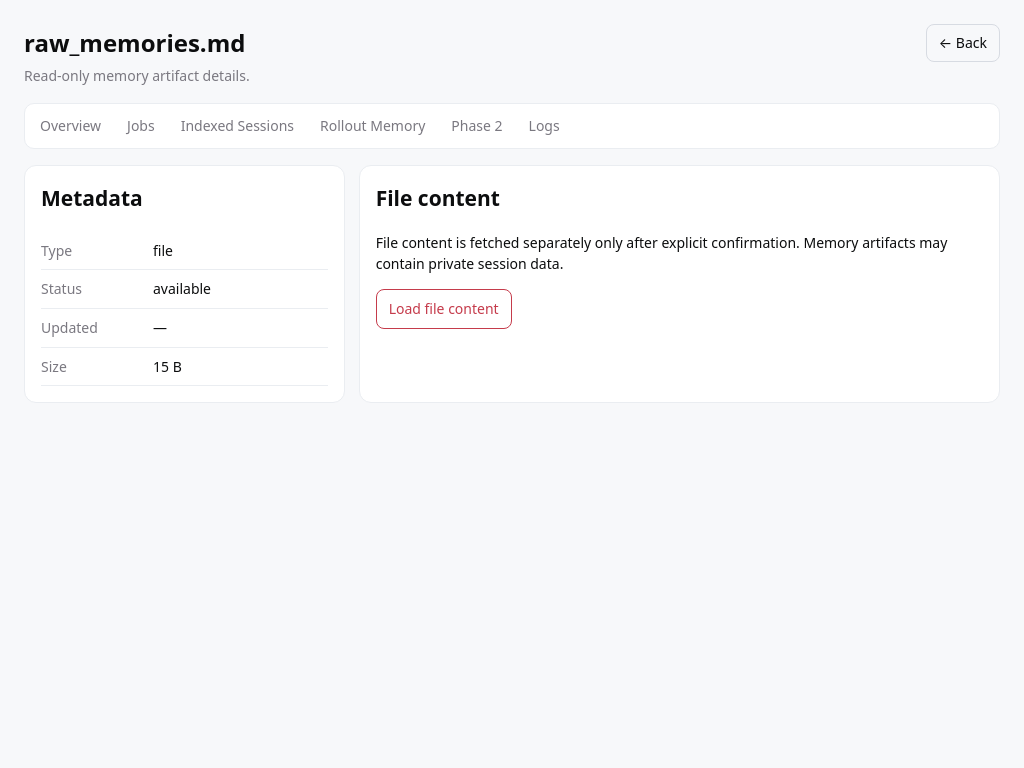
MemoryPage › loads artifact metadata without requesting file content until confirmation
This screenshot has width=1024, height=768.
Expected: the heading "File content" is shown, x1=376 y1=184 x2=500 y2=212
Expected: the text "secret artifact" is not shown
Click the button "Load file content" at (444, 309), box x1=376 y1=289 x2=512 y2=329
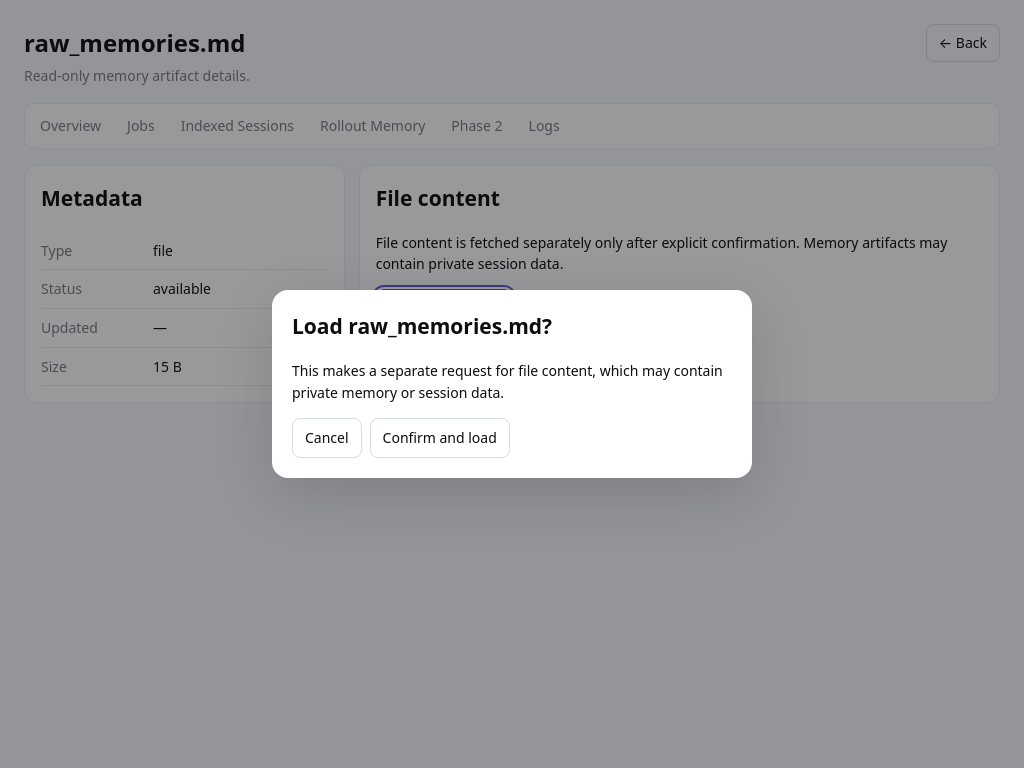
Result: the dialog "Load raw_memories.md?" is shown at x1=272 y1=290 x2=752 y2=478
Click the button "Confirm and load" at (440, 438), box x1=370 y1=418 x2=510 y2=458
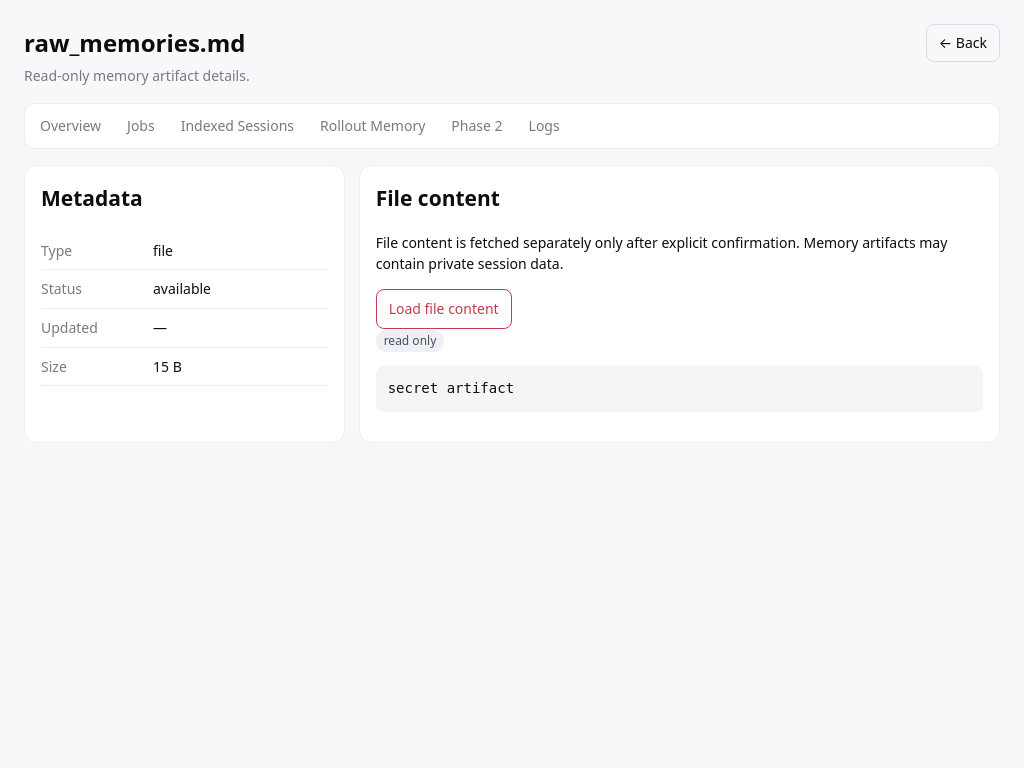
Result: the text "secret artifact" is shown at x1=376 y1=366 x2=983 y2=412
